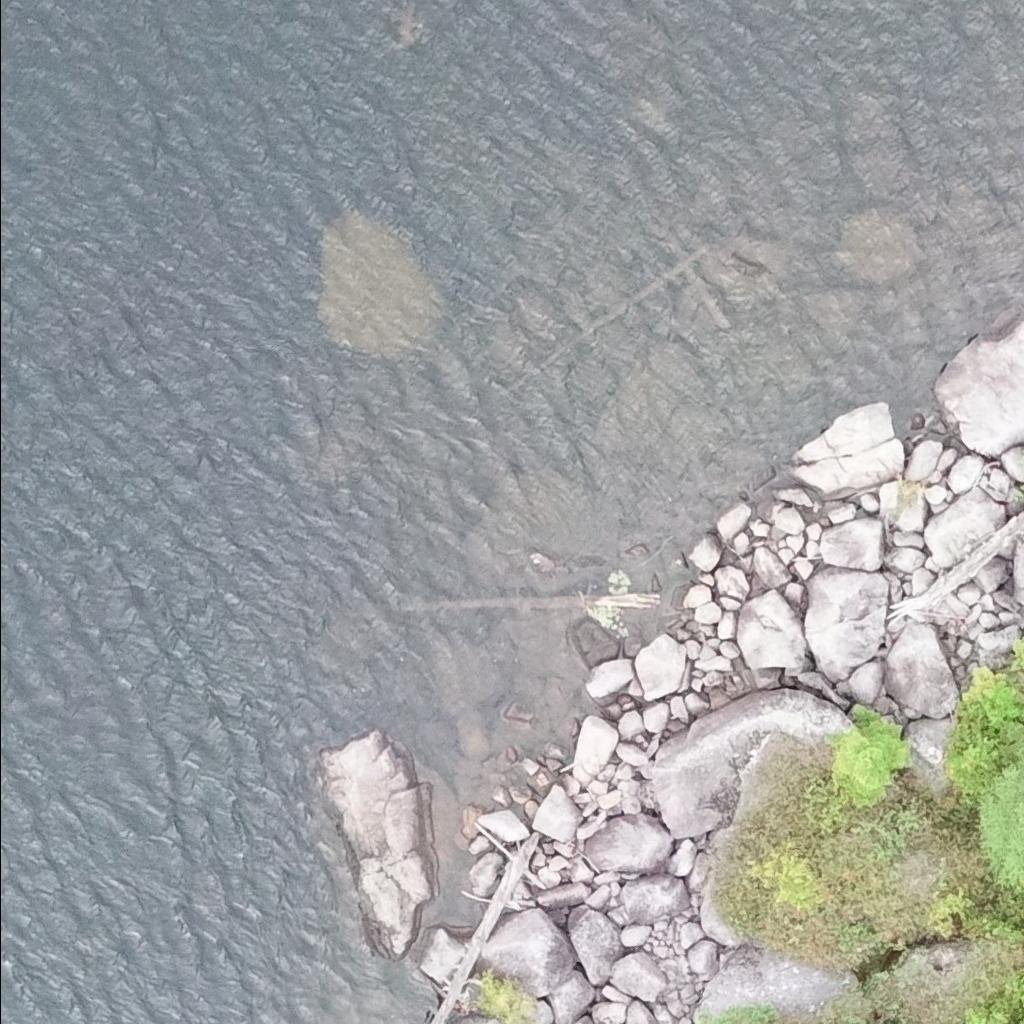crown: (978, 752, 1023, 888), (698, 1001, 778, 1023)
